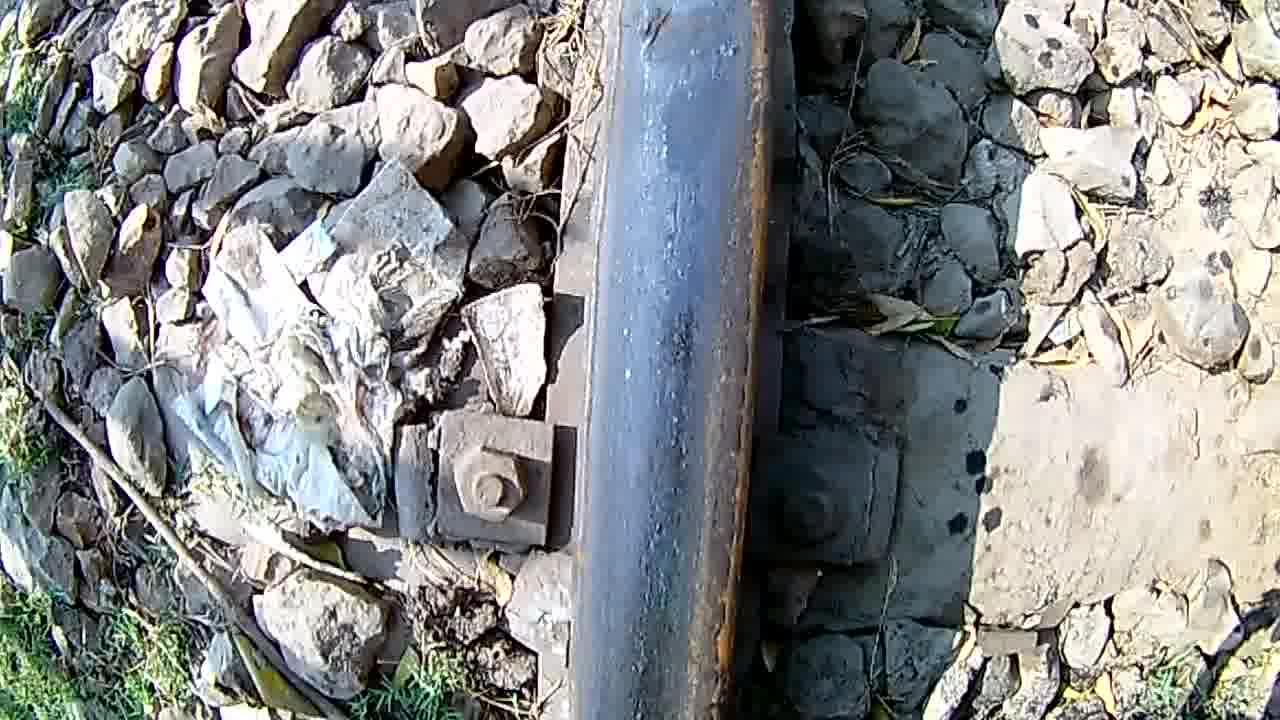bolt_missing: (622, 36, 780, 208)
